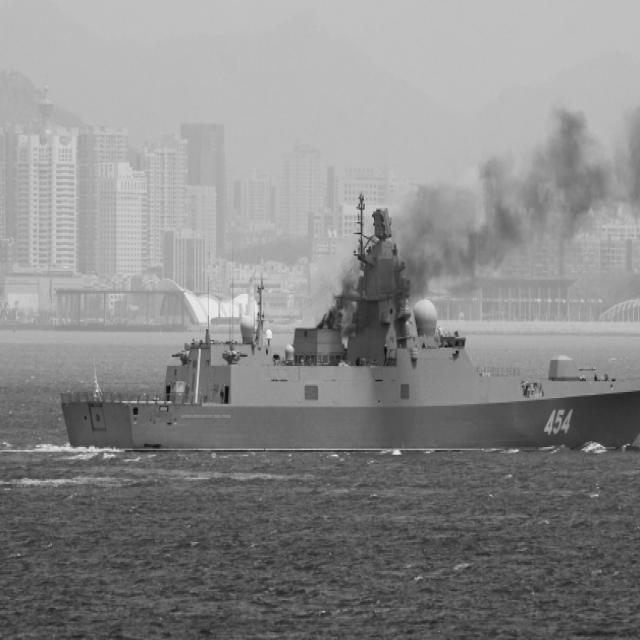Fragata: (58, 183, 640, 459)
